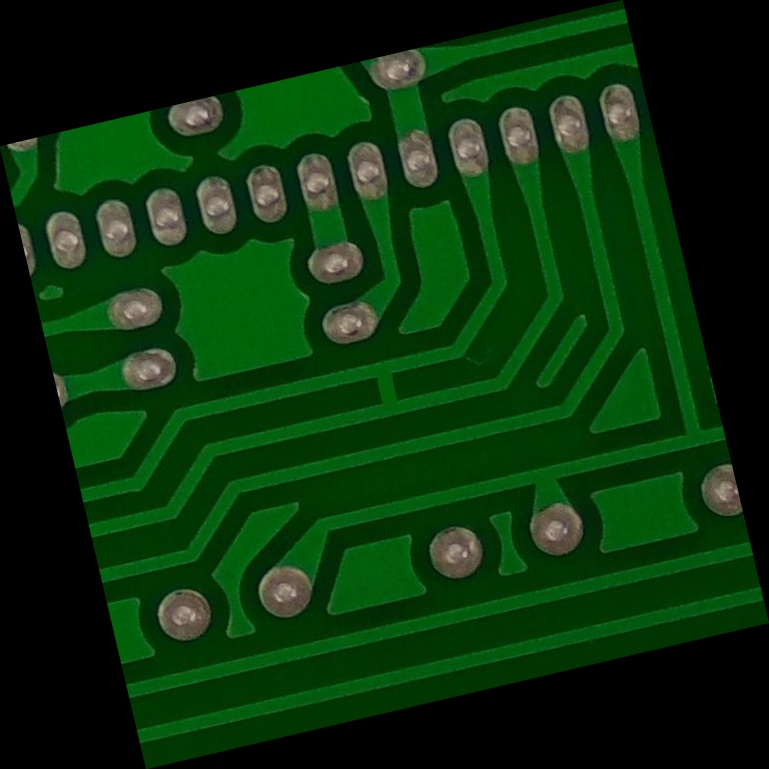short: (347, 340, 422, 429)
